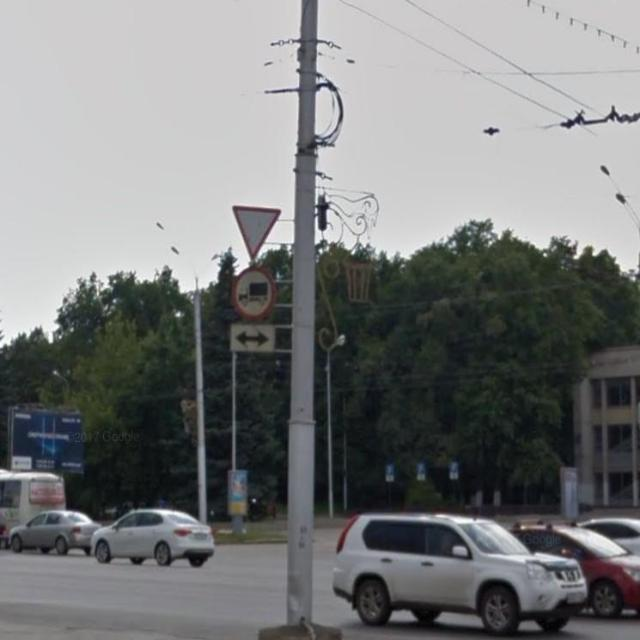give_way: (232, 204, 283, 262)
truck: (231, 264, 278, 322)
